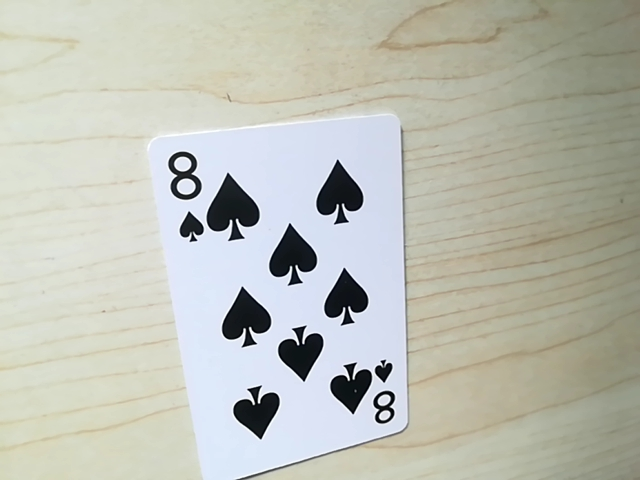ht 8: (157, 138, 215, 245), (364, 368, 400, 435)
